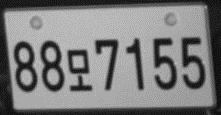1: (125, 36, 144, 91)
5: (152, 37, 177, 90), (181, 36, 206, 89)
7: (94, 38, 118, 89)
8: (39, 40, 65, 91), (12, 40, 37, 93)
모: (66, 48, 93, 91)
